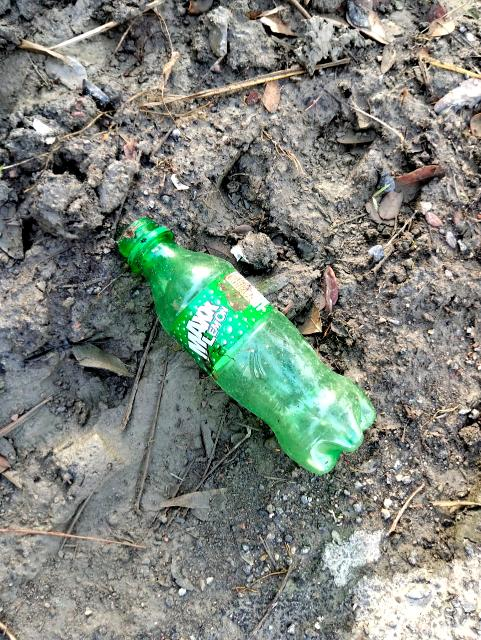bottle: (79, 198, 407, 505)
